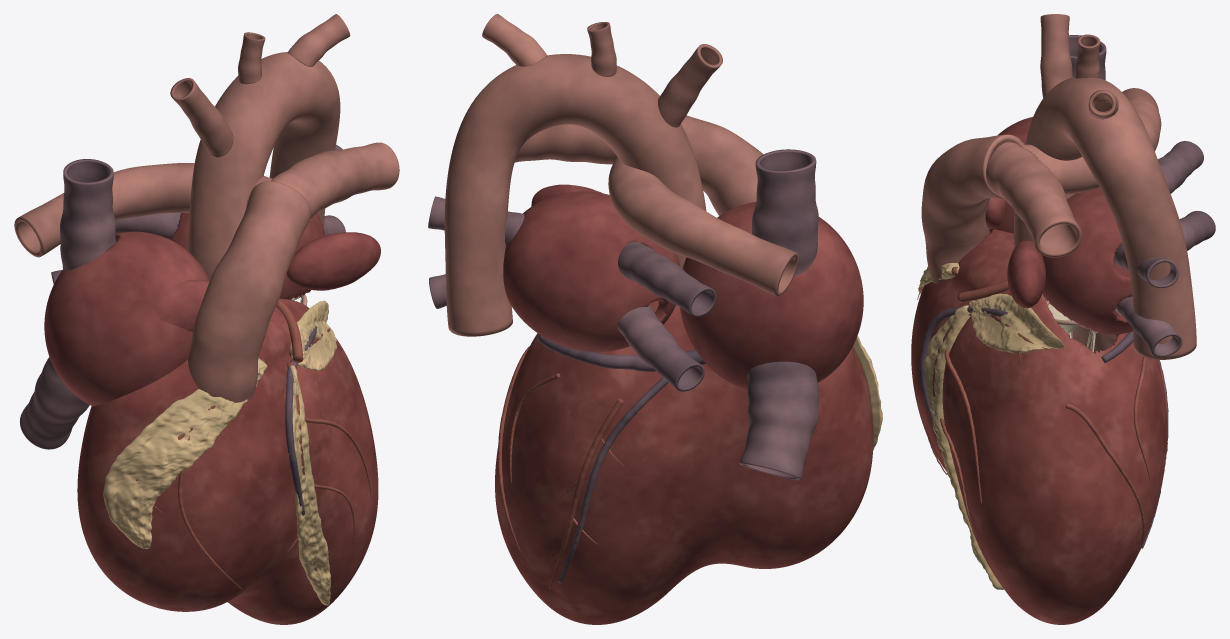
Rendered from heart-anatomy.glb.
The picture shows the model from 3 angles, left to right: view 1: azimuth 30°, elevation 25°; view 2: azimuth 150°, elevation 25°; view 3: azimuth 270°, elevation 25°; orthographic projection. The views are drawn at different scales.
Visible parts, largest first — view 1: ventricles_front, aorta_back, epicardial_fat, pulmonary_trunk_front, right_atrium_front, right_pulmonary_artery_back, right_atrium_back, svc_back, left_auricle, ivc_back, left_pulmonary_artery_front, left_pulmonary_artery_back (+10 smaller); view 2: ventricles_back, aorta_back, left_atrium_back, right_atrium_back, right_pulmonary_artery_back, ivc_back, svc_back, pulmonary_trunk_front, rspv_back, ripv_back, ventricles_front, left_pulmonary_artery_back (+9 smaller); view 3: ventricles_back, ventricles_front, aorta_back, left_atrium_back, pulmonary_trunk_front, epicardial_fat, left_pulmonary_artery_back, right_pulmonary_artery_back, brachiocephalic_back, left_auricle, left_pulmonary_artery_front, lipv_back (+13 smaller).
Boxes of the visible parts, bbox=[...] form: ventricles_front: bbox=[80, 307, 378, 622]; aorta_back: bbox=[187, 52, 340, 279]; epicardial_fat: bbox=[103, 300, 336, 605]; pulmonary_trunk_front: bbox=[188, 181, 311, 402]; right_atrium_front: bbox=[72, 251, 209, 405]; right_pulmonary_artery_back: bbox=[14, 163, 272, 257]; right_atrium_back: bbox=[44, 231, 209, 406]; svc_back: bbox=[60, 159, 115, 270]; left_auricle: bbox=[286, 232, 380, 290]; ivc_back: bbox=[19, 357, 89, 449]; left_pulmonary_artery_front: bbox=[272, 162, 363, 218]; left_pulmonary_artery_back: bbox=[271, 142, 399, 202]; ventricles_back: bbox=[495, 300, 854, 624]; aorta_back: bbox=[444, 54, 706, 336]; left_atrium_back: bbox=[503, 191, 680, 351]; right_atrium_back: bbox=[680, 202, 862, 390]; right_pulmonary_artery_back: bbox=[608, 156, 798, 296]; ivc_back: bbox=[739, 361, 818, 480]; svc_back: bbox=[752, 149, 818, 275]; pulmonary_trunk_front: bbox=[681, 115, 763, 215]; rspv_back: bbox=[618, 241, 716, 316]; ripv_back: bbox=[617, 304, 704, 391]; ventricles_front: bbox=[799, 346, 873, 562]; left_pulmonary_artery_back: bbox=[514, 124, 617, 164]; ventricles_back: bbox=[1021, 294, 1167, 624]; ventricles_front: bbox=[911, 229, 1021, 608]; aorta_back: bbox=[1021, 77, 1196, 359]; left_atrium_back: bbox=[1042, 187, 1132, 334]; pulmonary_trunk_front: bbox=[921, 134, 1021, 283]; epicardial_fat: bbox=[918, 263, 1064, 589]; left_pulmonary_artery_back: bbox=[1021, 147, 1082, 257]; right_pulmonary_artery_back: bbox=[1021, 88, 1161, 194]; brachiocephalic_back: bbox=[1040, 14, 1072, 97]; left_auricle: bbox=[1007, 240, 1045, 308]; left_pulmonary_artery_front: bbox=[986, 142, 1021, 218]; lipv_back: bbox=[1115, 296, 1182, 357].
Bounding box in the file's own units: 0.1021 × 0.1633 × 0.0789.
